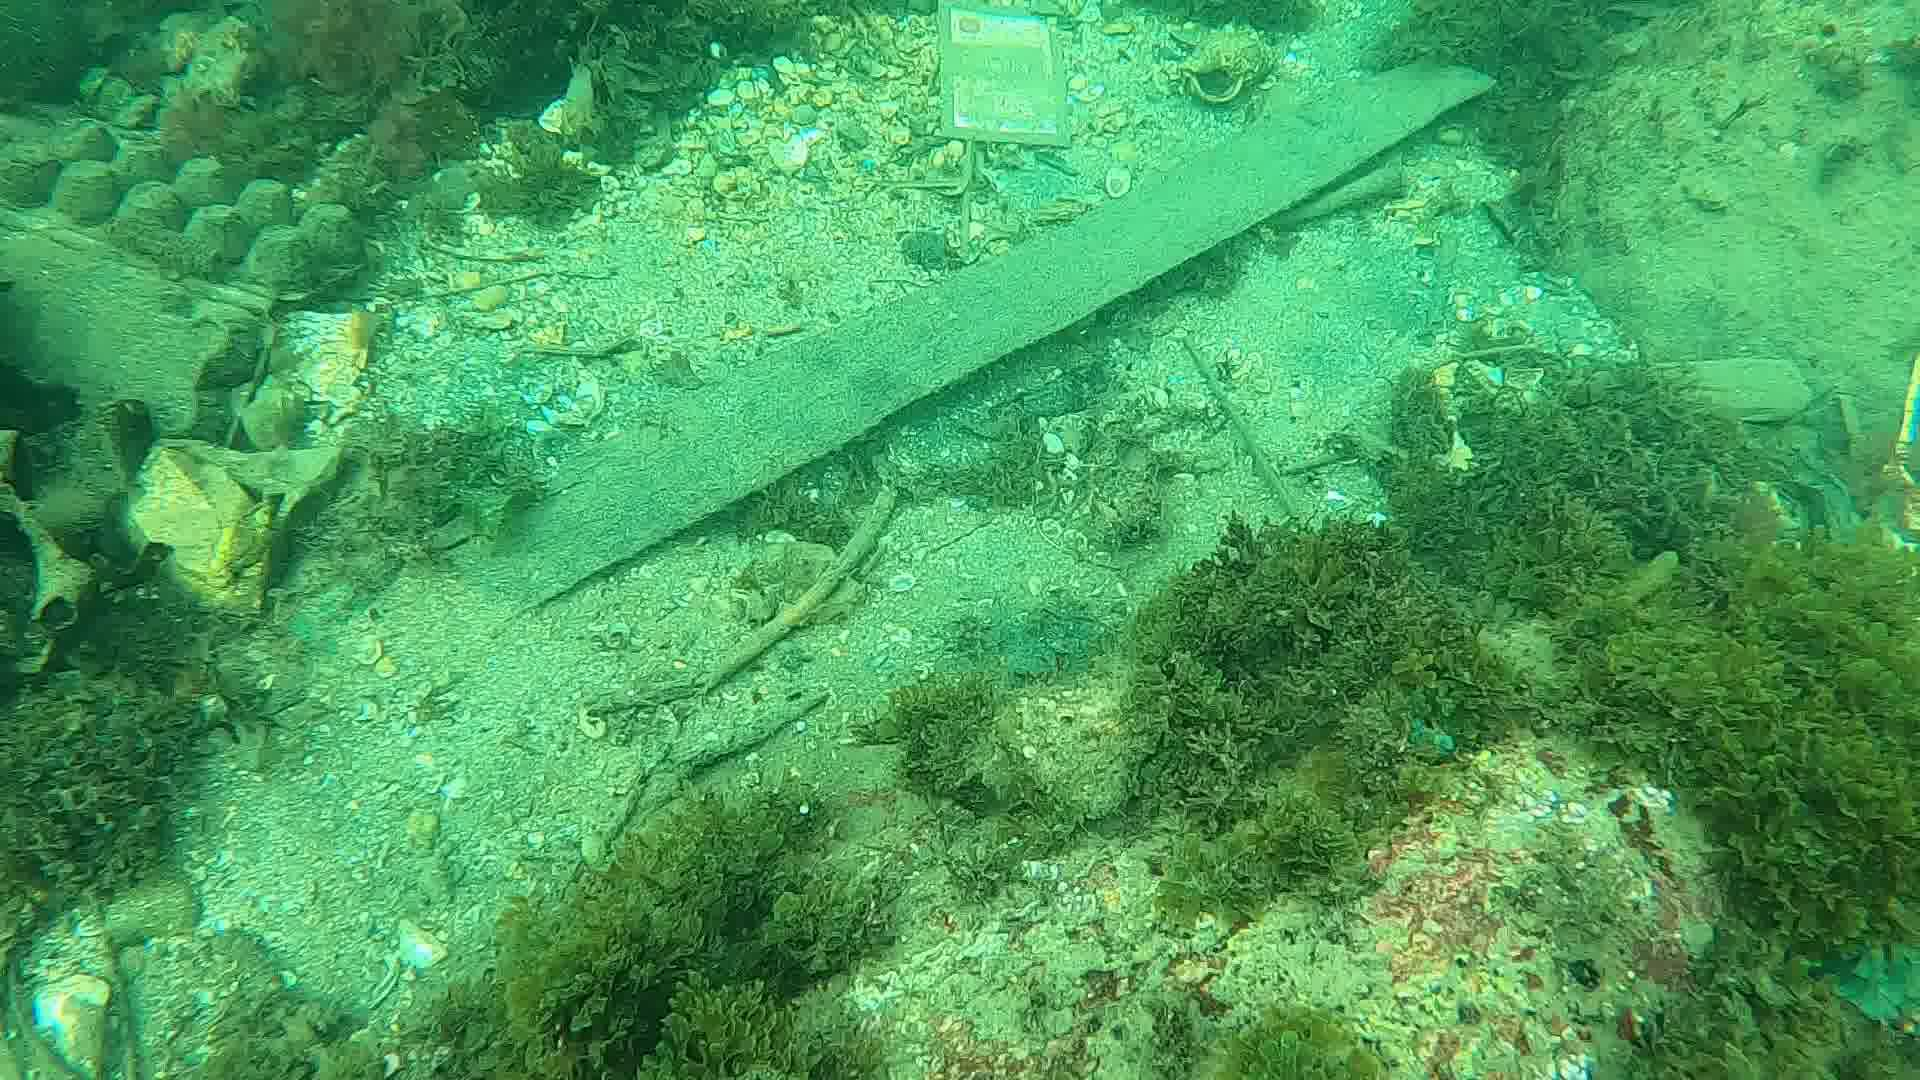wood: (433, 53, 1495, 612)
